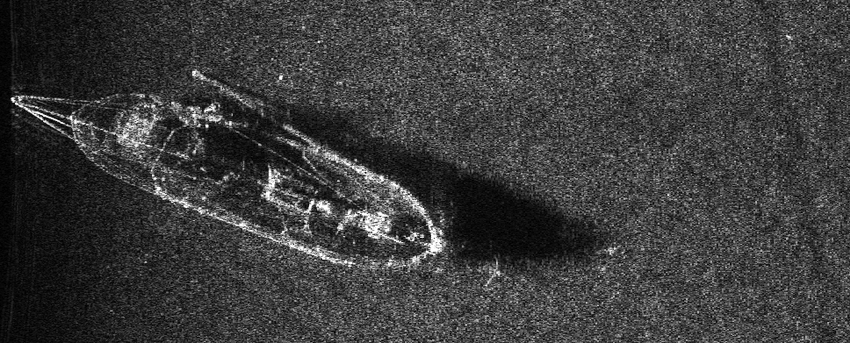ship: (14, 73, 453, 273)
